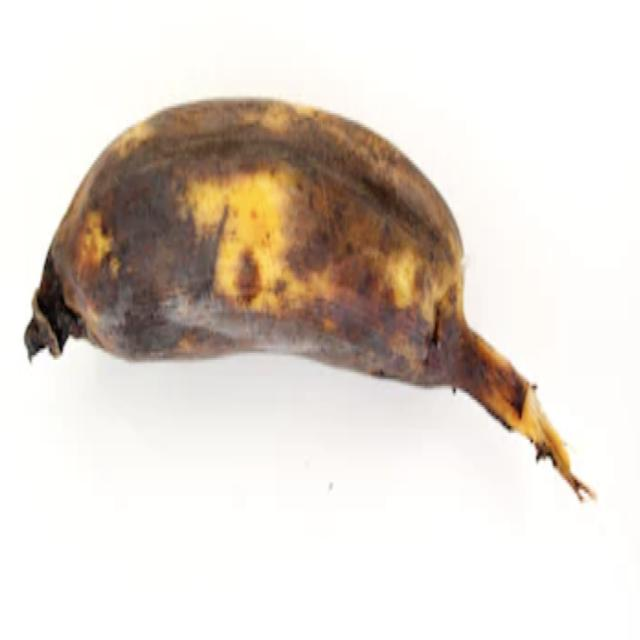rotten-banana: (23, 94, 597, 504)
